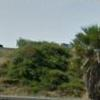Tree: (15, 27, 77, 92)
